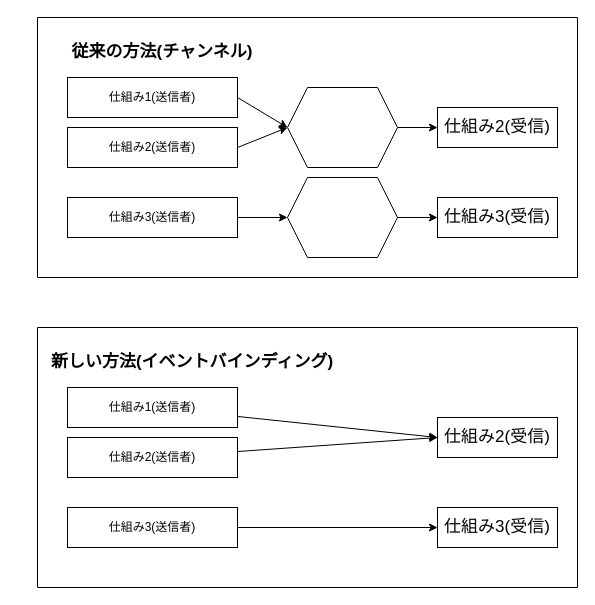
Image size: 595x605. Some labels were removed from this diagram. The centre of each missing label's shape, as x and y in pixels:
"チャンネル1" goes at point (342, 127).
"チャンネル2" goes at point (342, 217).
